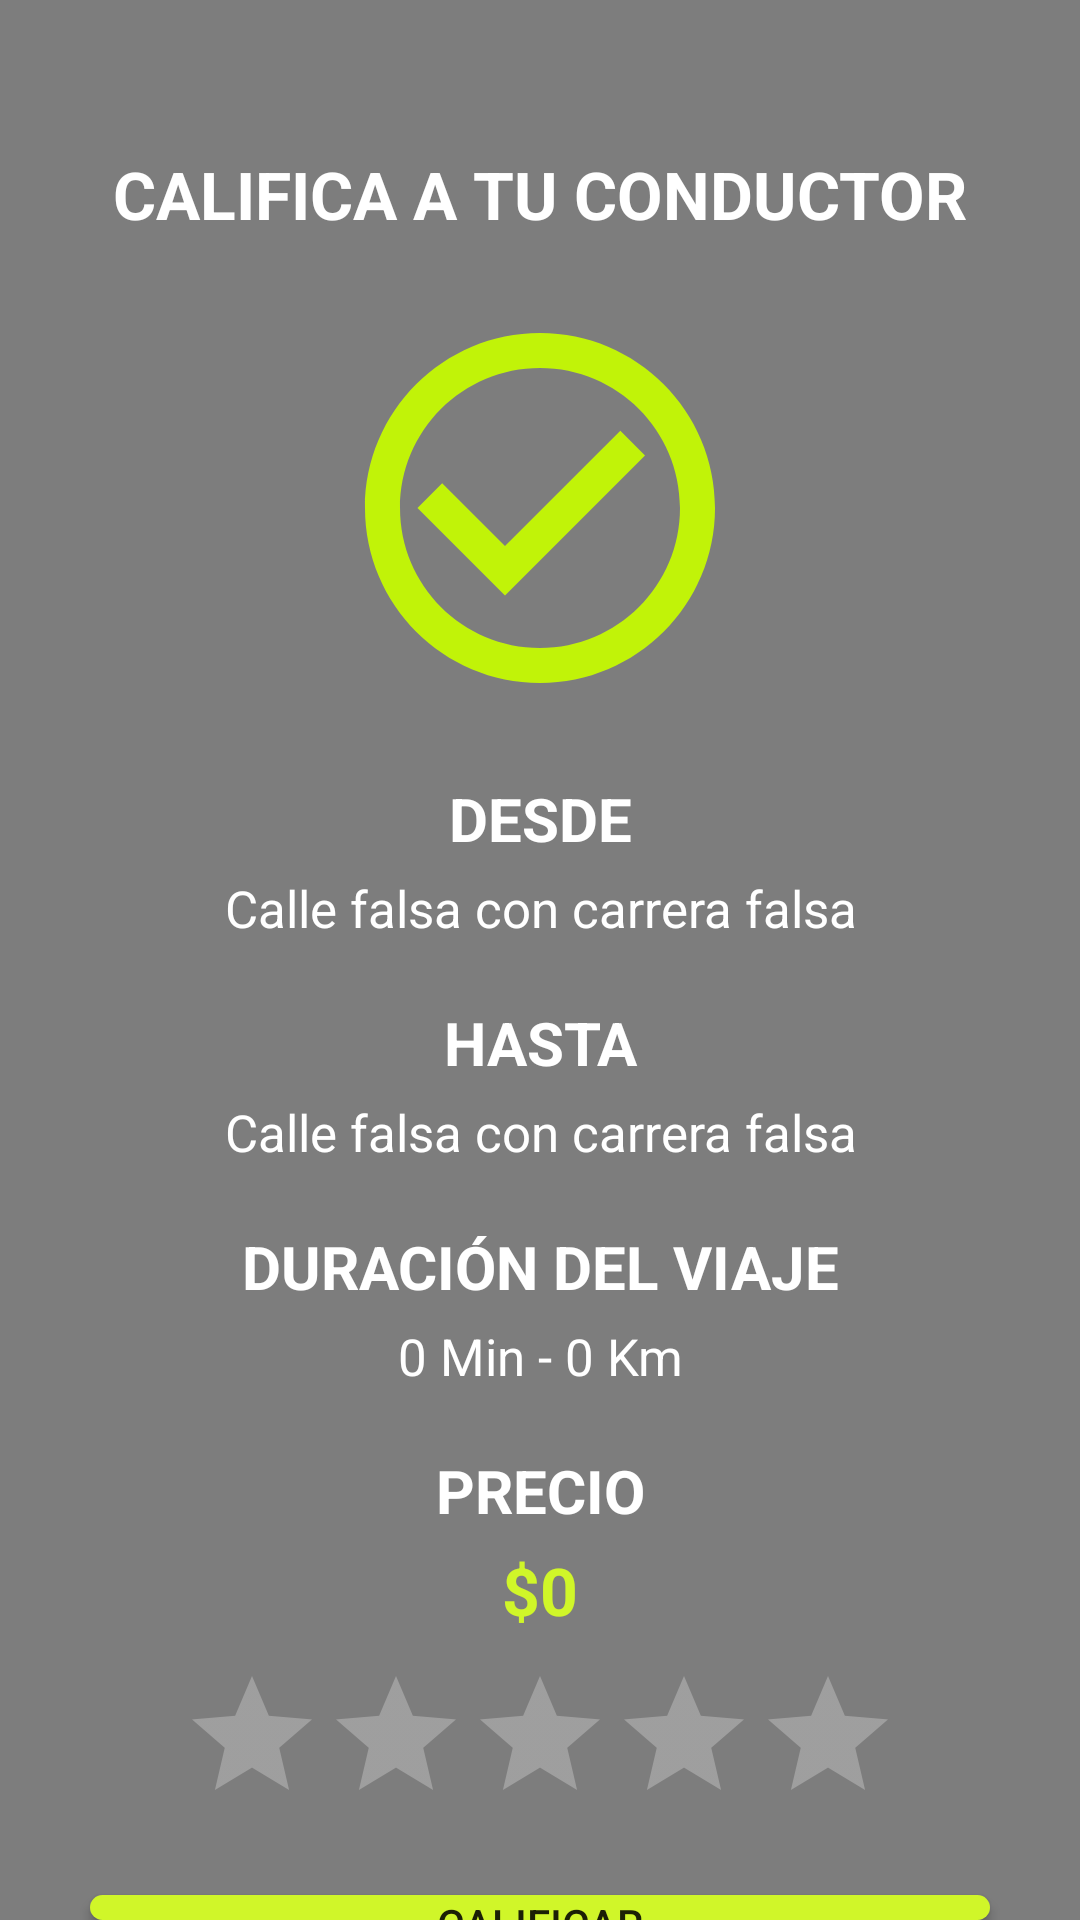

Icons on this 1080*1920 Android screen, each with its box as (x1, y1, x2, y2):
check: (365, 333, 715, 683)
